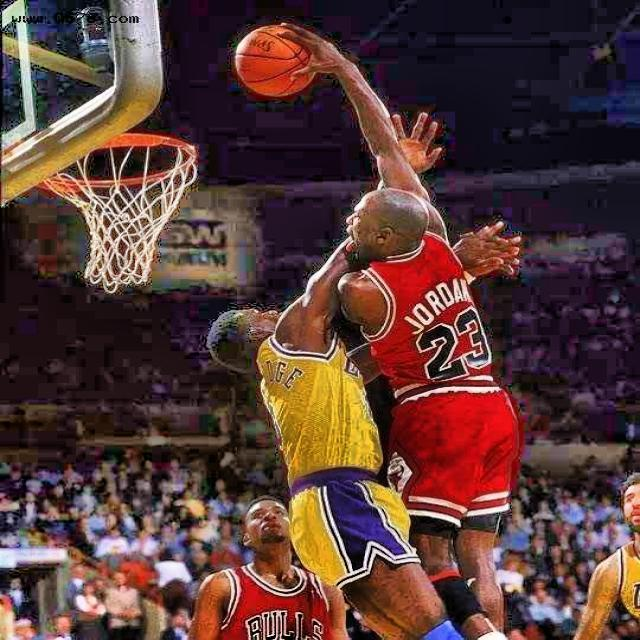board: (233, 25, 316, 100)
rim: (37, 133, 200, 286)
